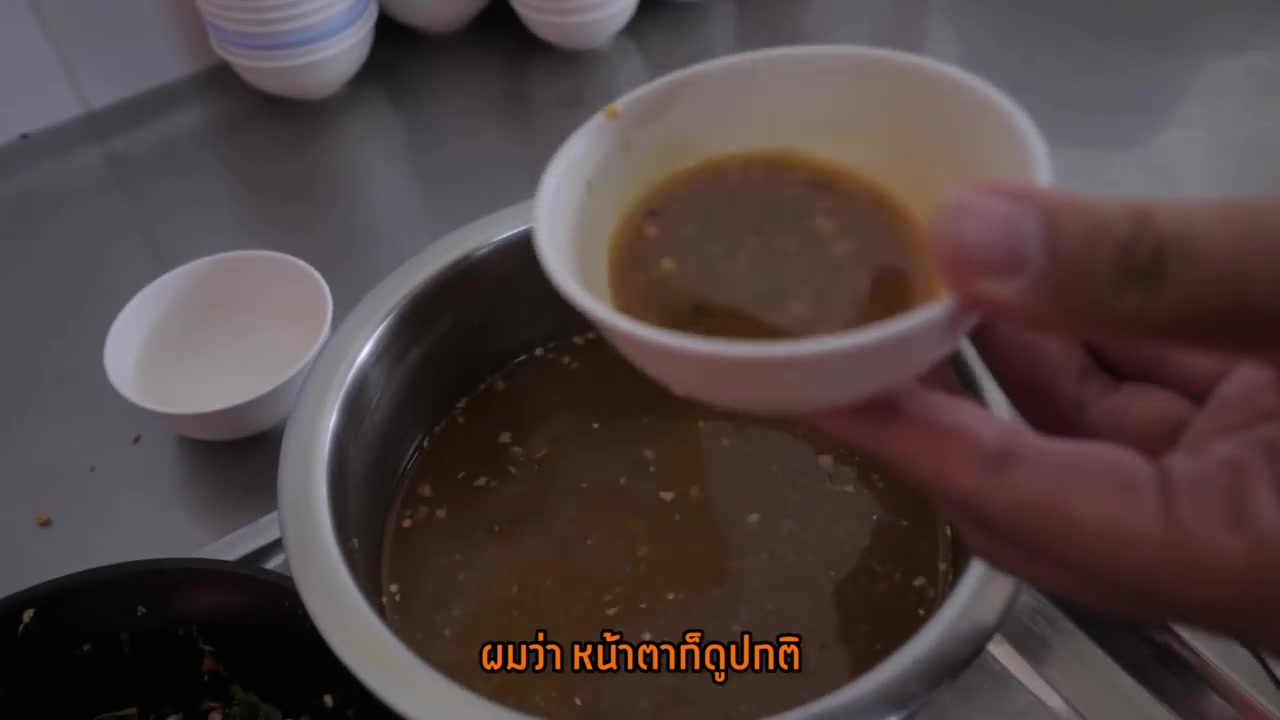text-label: (474, 626, 804, 687)
